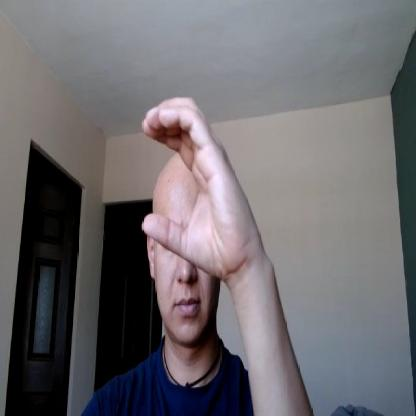C: (140, 94, 254, 276)
